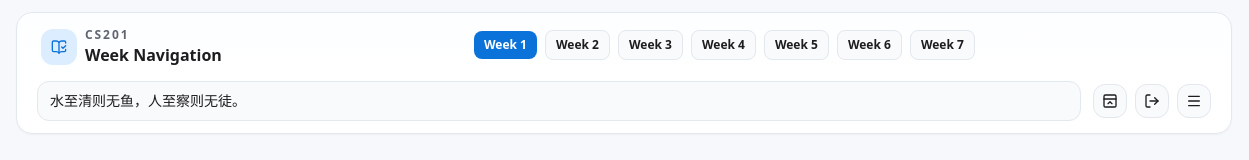
Test case: Navbar › collapses week navigation into a compact bar
The width and height of the screenshot is (1249, 160).
Click the button named "Collapse week navigation": {"x": 1110, "y": 101} [1093,84,1127,118]
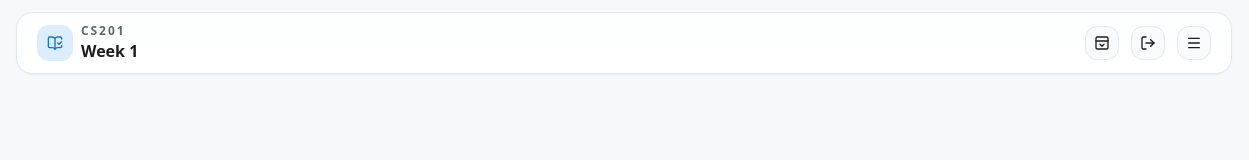
Expected: the heading "Week 1" is shown, [81,41,138,61]
Expected: the button named "Expand week navigation" is collapsed, [1085,26,1119,60]
